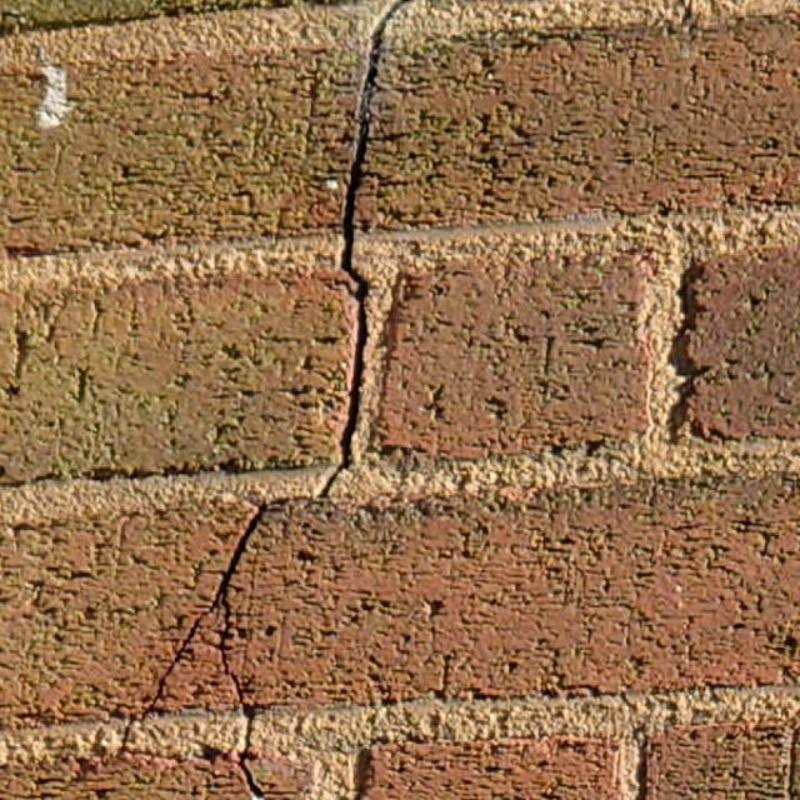crack: (319, 0, 407, 497), (150, 506, 270, 800)
